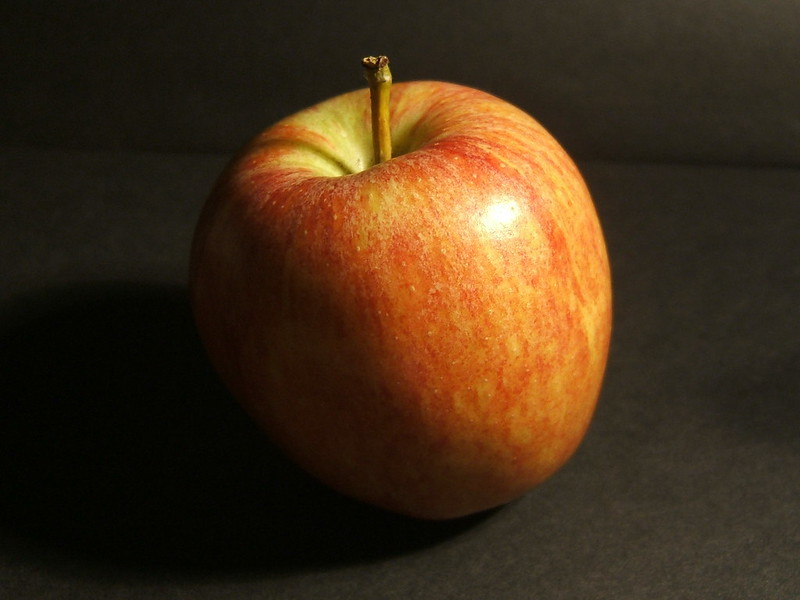apple: (180, 74, 626, 526)
